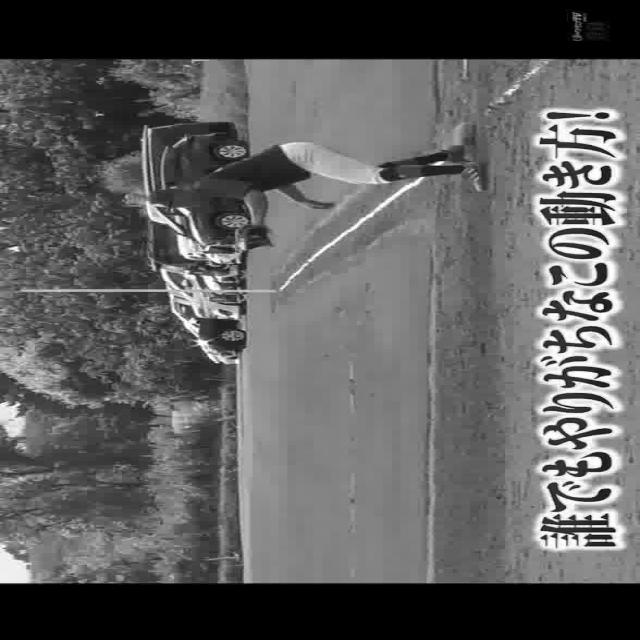base: (454, 120, 479, 174)
baseball_glove: (235, 220, 281, 250)
shoe: (443, 140, 471, 168), (462, 161, 486, 189)
